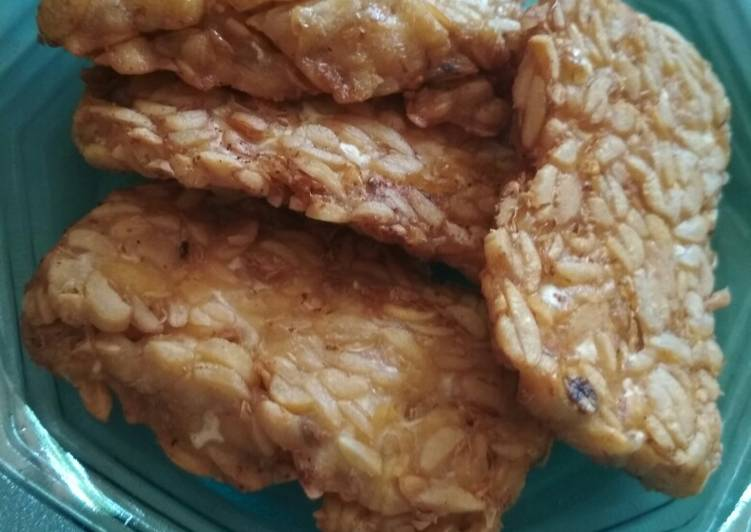Tempe: (32, 167, 493, 520), (512, 16, 731, 496)
